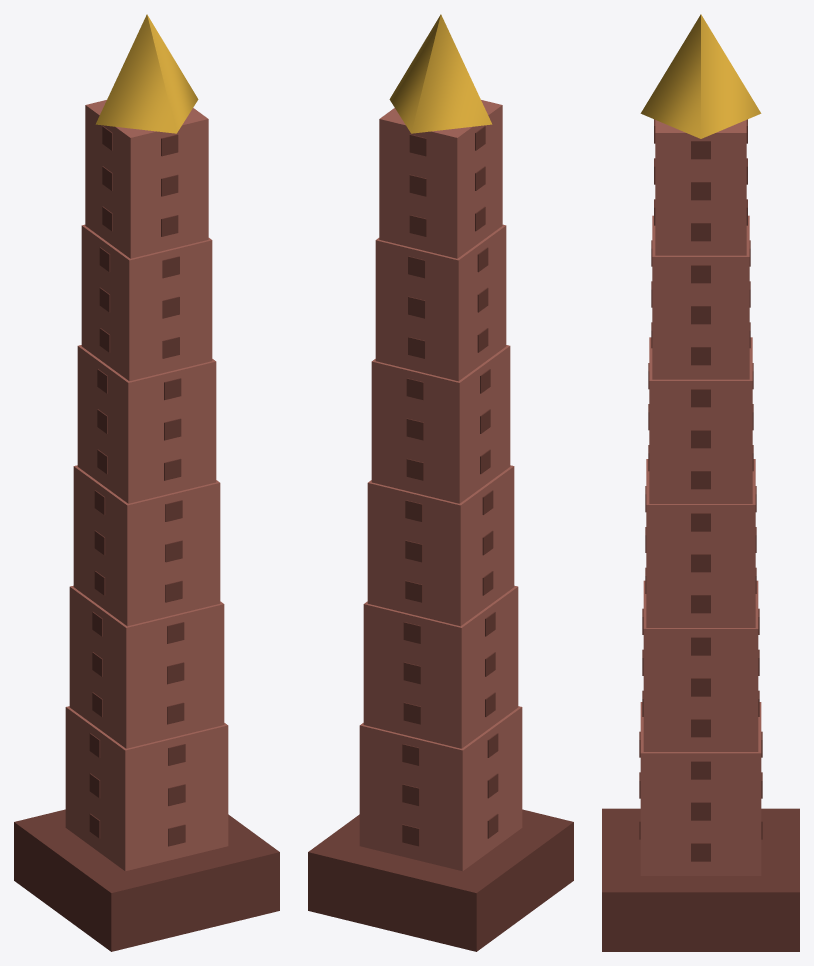
The model's file is eg_obelisk.glb.
The picture shows the model from 3 angles, left to right: view 1: azimuth 30°, elevation 25°; view 2: azimuth 150°, elevation 25°; view 3: azimuth 270°, elevation 25°; orthographic projection.
Visible parts, largest first — view 1: eg_obelisk; view 2: eg_obelisk; view 3: eg_obelisk.
Part boxes in pixels (box(x1,y1,x2,y2)): eg_obelisk: box(14, 14, 279, 951); eg_obelisk: box(308, 14, 573, 951); eg_obelisk: box(602, 14, 799, 951).
Size of the model in its own units: 1.8 by 9 by 1.8.
